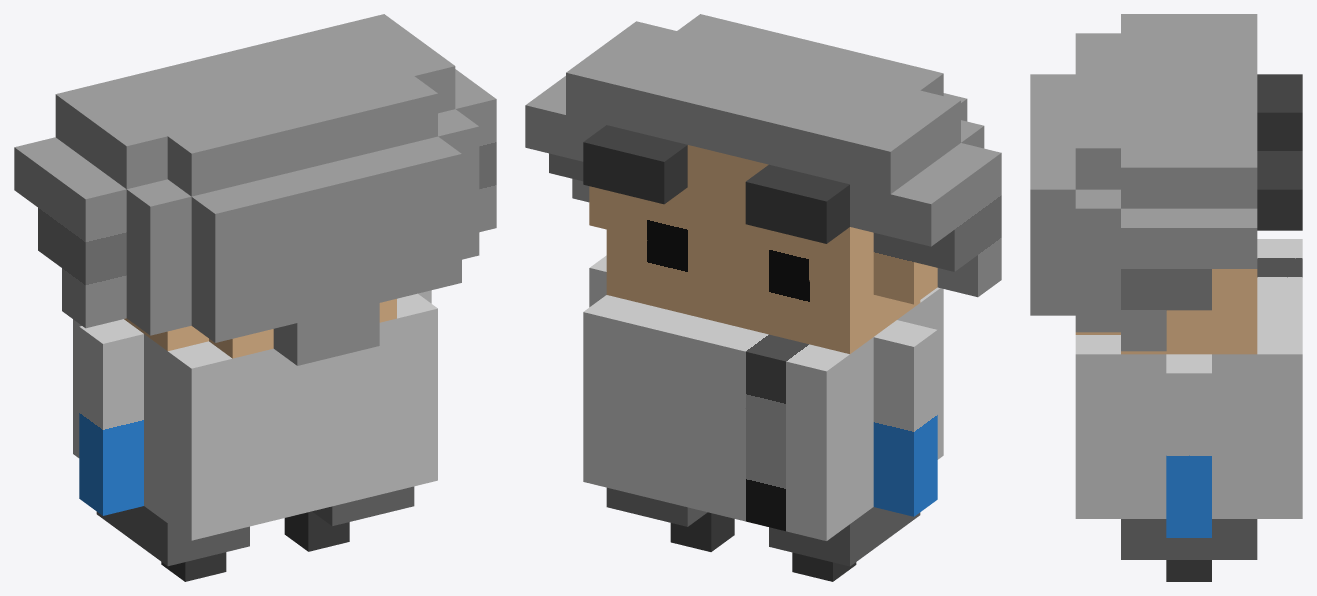
The model's file is chr_scientist.dae.
3 renders of one model, left to right at view 1: azimuth 30°, elevation 25°; view 2: azimuth 150°, elevation 25°; view 3: azimuth 270°, elevation 25°, orthographic. The views are drawn at different scales.
Parts seen in each view (by area): view 1: chr_scientist; view 2: chr_scientist; view 3: chr_scientist.
Part boxes in pixels (bbox=[...]): chr_scientist: bbox=[14, 14, 496, 581]; chr_scientist: bbox=[525, 14, 1001, 581]; chr_scientist: bbox=[1030, 14, 1302, 581].
Bounding box in the file's own units: 1 × 0.6 × 1.1.
Materials: 1 (1 with a texture image).
